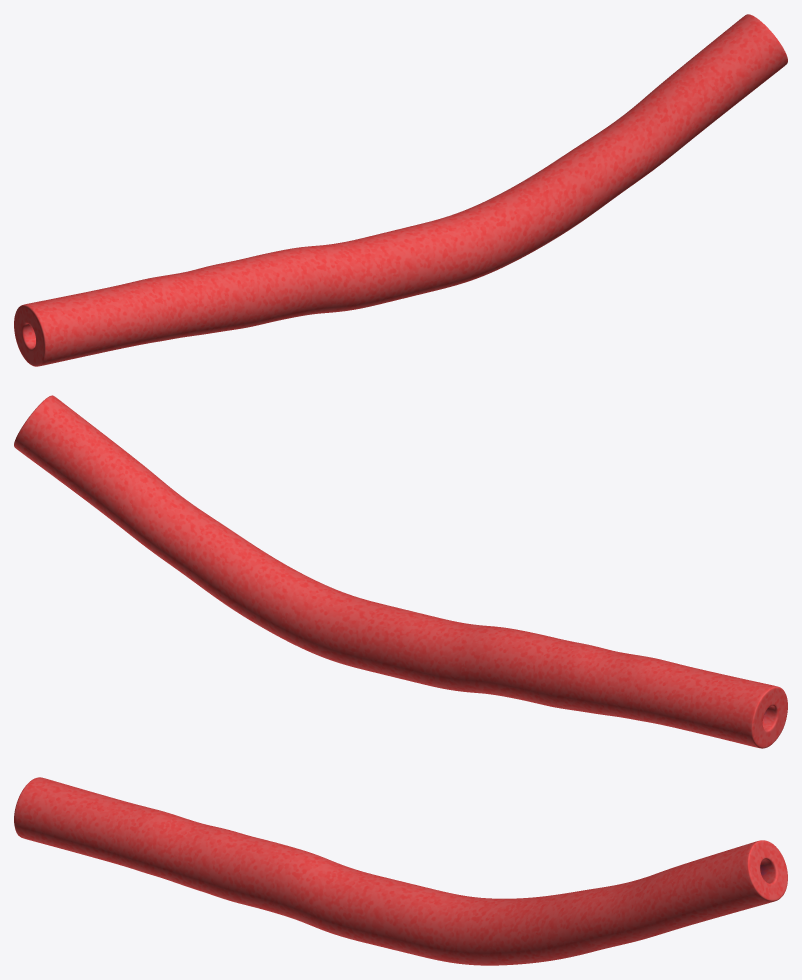
Rendered from PoolNoodle_Textured_02.fbx.
3 views of the same model, one above another, from view 1: azimuth 30°, elevation 25°; view 2: azimuth 150°, elevation 25°; view 3: azimuth 330°, elevation 25° (orthographic).
Visible parts, largest first — view 1: Pool_Noodle; view 2: Pool_Noodle; view 3: Pool_Noodle.
Part boxes in pixels (x1,y1,x2,y2): Pool_Noodle: (14,14,787,366); Pool_Noodle: (14,395,787,748); Pool_Noodle: (14,777,787,965).
Bounding box in the file's own units: 24.93 × 6.04 × 2.05.
Materials: 1 (1 with a texture image).
